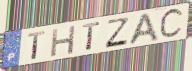A: (126, 11, 160, 47)
C: (158, 6, 186, 42)
H: (49, 24, 78, 59)
T: (27, 30, 48, 61), (82, 21, 102, 52)
Z: (104, 17, 131, 50)
